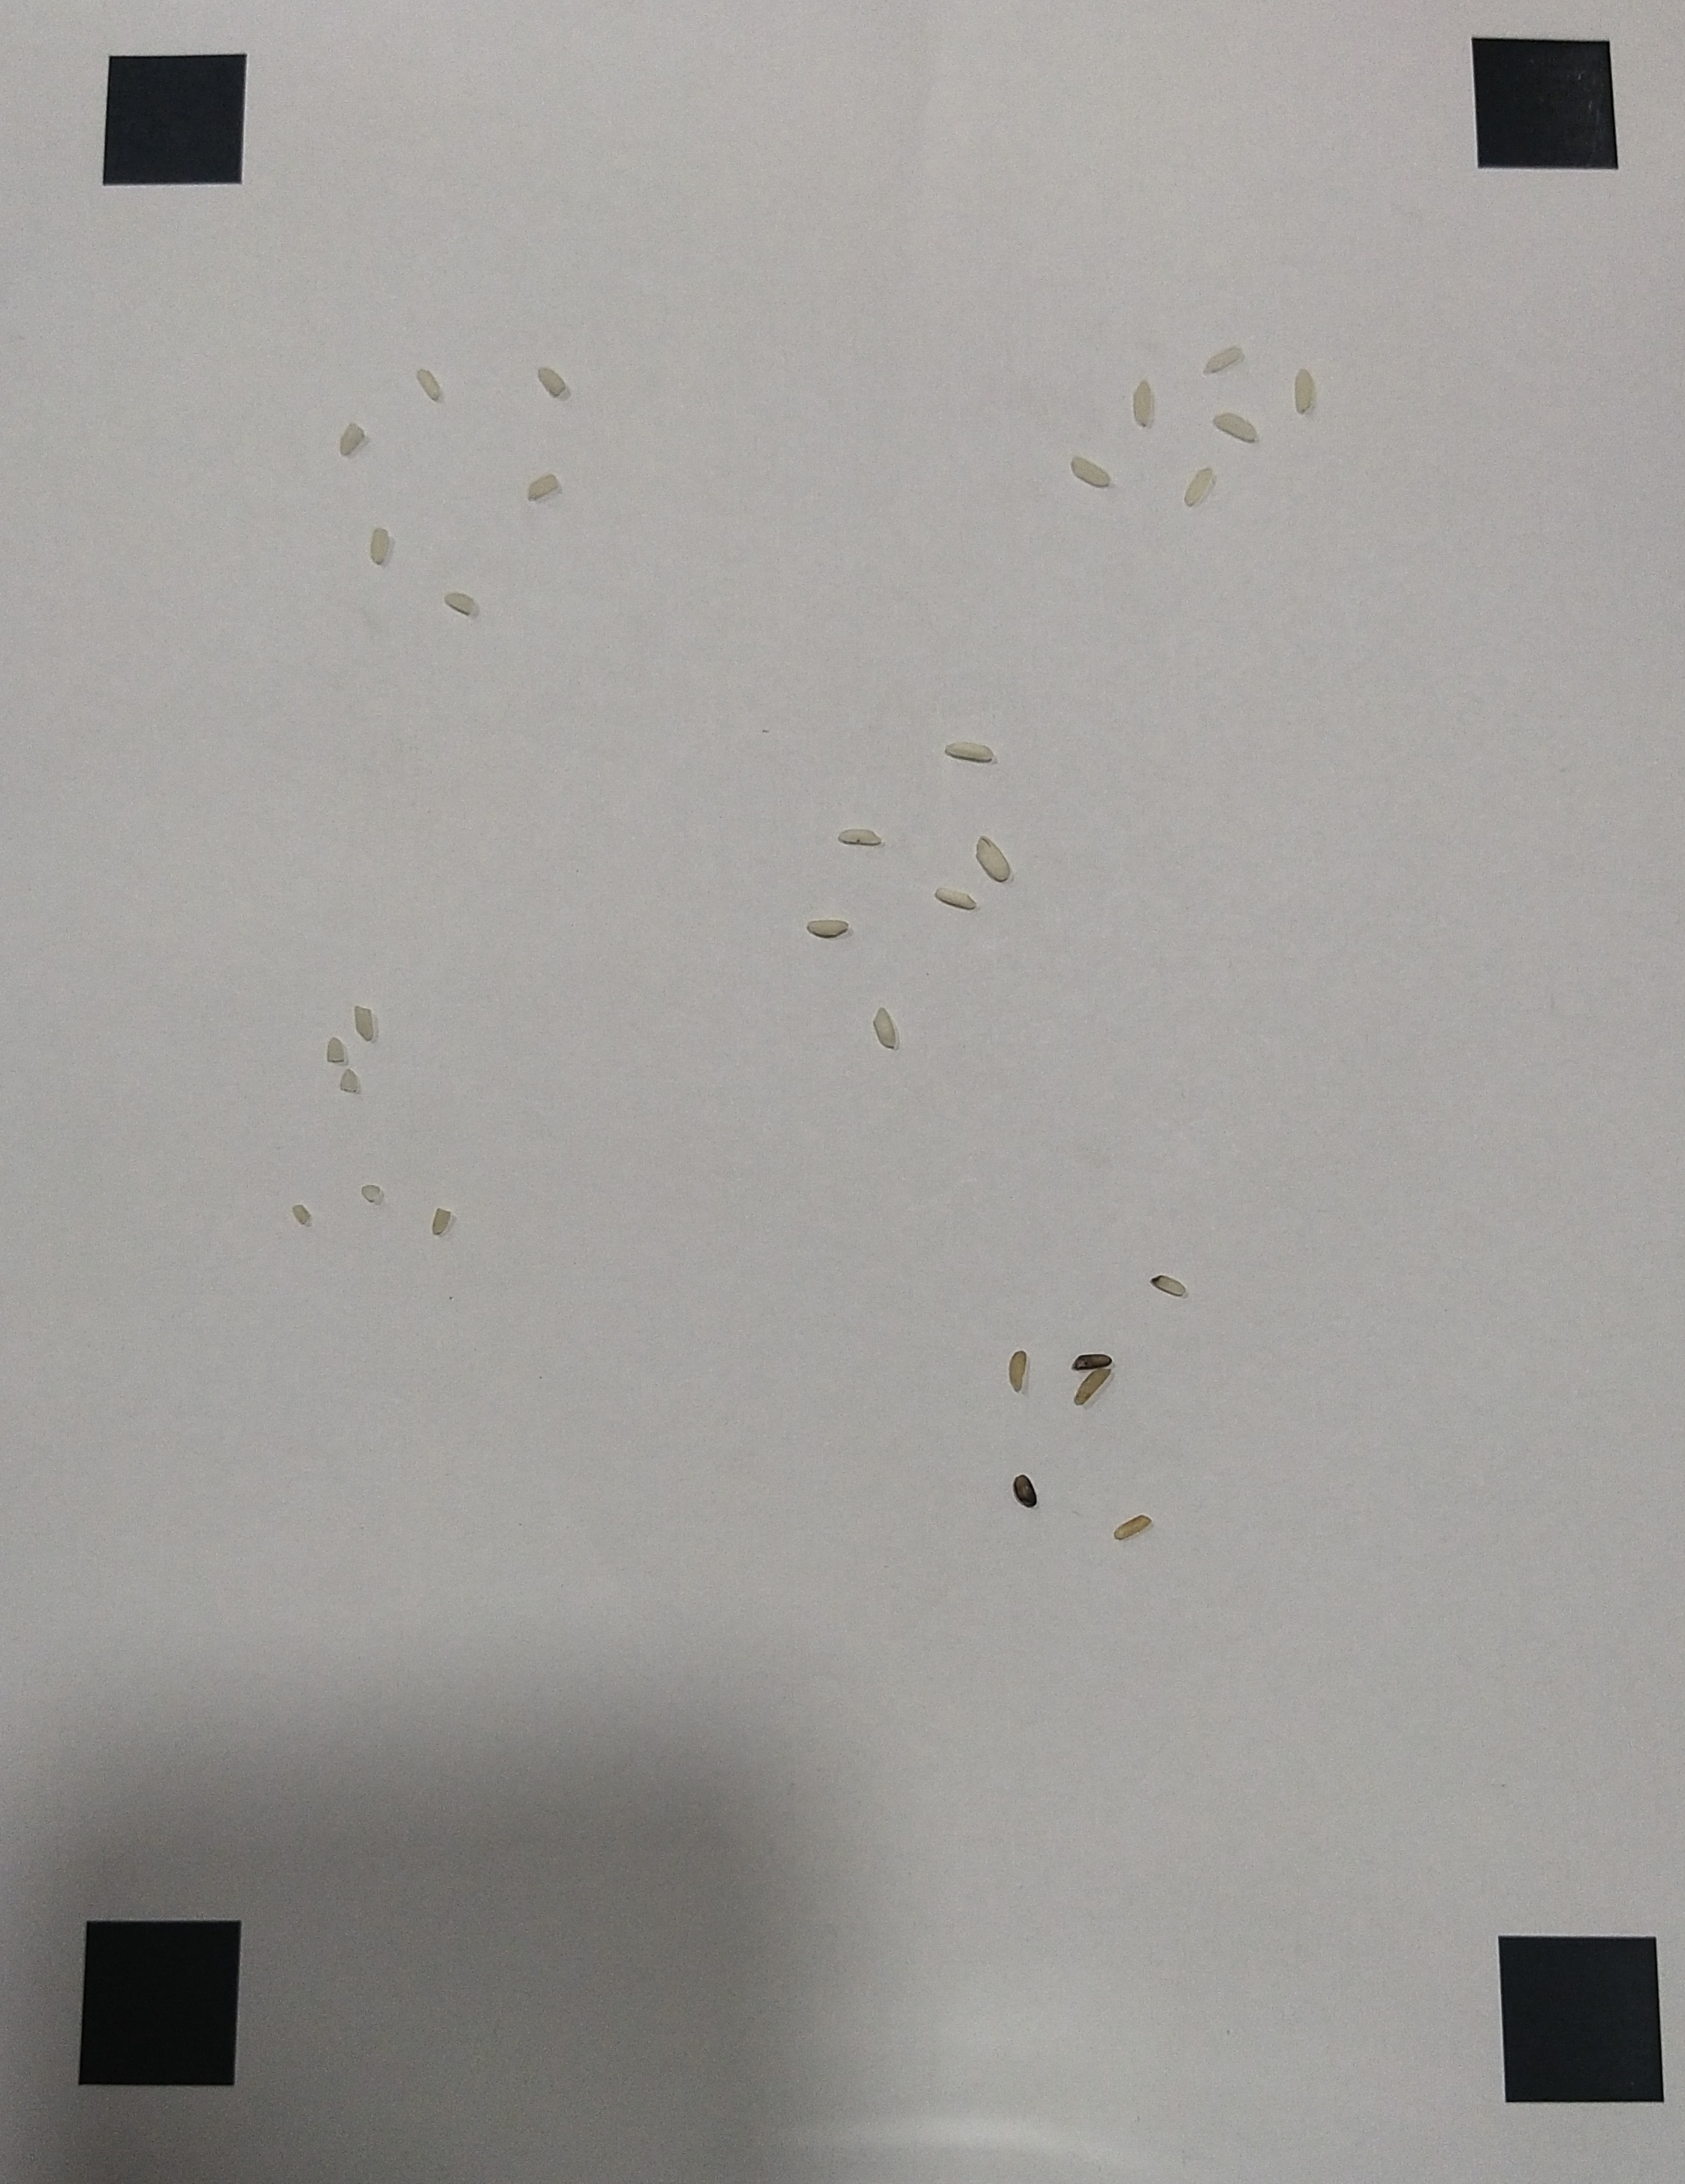broken: (350, 1002, 377, 1042), (427, 1205, 450, 1235), (290, 1202, 313, 1227), (327, 1035, 345, 1067), (359, 1179, 382, 1202), (340, 1069, 361, 1094)
chalky: (977, 834, 1009, 881), (873, 1002, 897, 1048), (943, 740, 996, 761), (935, 887, 979, 908), (805, 919, 850, 936), (837, 828, 881, 846)
damage: (366, 526, 391, 566), (538, 368, 568, 396), (527, 474, 556, 501), (418, 368, 441, 400), (340, 421, 361, 453), (444, 593, 474, 612)
discolor: (1073, 1368, 1112, 1409), (1113, 1515, 1152, 1540), (1014, 1471, 1039, 1510), (1005, 1350, 1028, 1389), (1150, 1273, 1188, 1296), (1071, 1350, 1113, 1370)
good: (1212, 412, 1258, 442), (1071, 451, 1108, 487), (1184, 465, 1211, 511), (1204, 342, 1243, 372), (1294, 365, 1313, 421), (1133, 381, 1150, 427)
